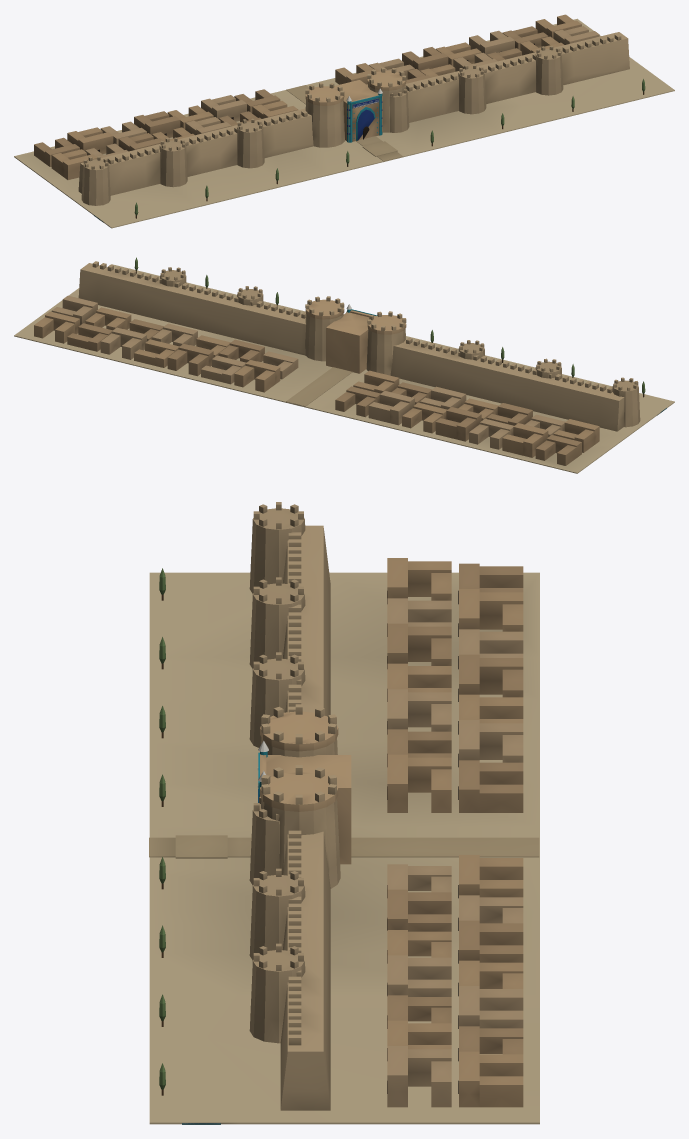
Rendered from abdullah-khan-kala.glb.
3 views of the same model, one above another, from view 1: azimuth 30°, elevation 25°; view 2: azimuth 150°, elevation 25°; view 3: azimuth 270°, elevation 25° (orthographic). The views are drawn at different scales.
Parts seen in each view (by area): view 1: p1_walls, p0_ground, p3_houses, p2_gate; view 2: p3_houses, p1_walls, p0_ground, p2_gate; view 3: p0_ground, p3_houses, p1_walls, p2_gate.
Part boxes in pixels (x1,y1,x2,y2): p1_walls: (78, 32, 629, 205); p0_ground: (14, 18, 674, 228); p3_houses: (34, 14, 645, 218); p2_gate: (305, 67, 406, 147); p3_houses: (34, 257, 645, 465); p1_walls: (78, 261, 640, 431); p0_ground: (14, 264, 674, 473); p2_gate: (305, 296, 406, 375); p0_ground: (149, 572, 539, 1124); p3_houses: (159, 558, 523, 1107); p1_walls: (249, 502, 330, 1110); p2_gate: (257, 704, 351, 888).
Bounding box in the file's own units: 200 × 16.78 × 60.07.
